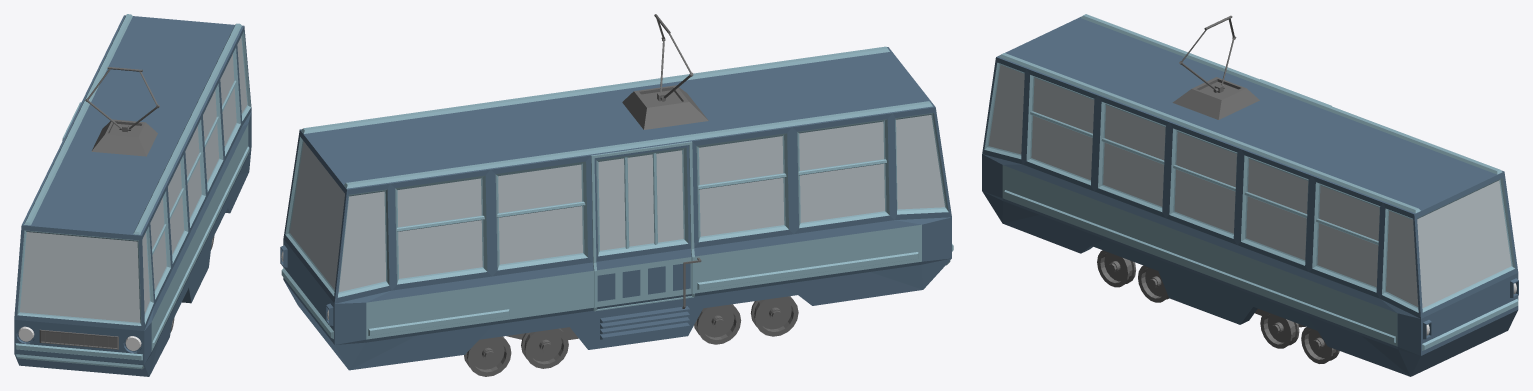
3 renders of one model, left to right at view 1: azimuth 30°, elevation 25°; view 2: azimuth 150°, elevation 25°; view 3: azimuth 270°, elevation 25°, orthographic. The views are drawn at different scales.
Visible parts, largest first — view 1: Cube.015; view 2: Cube.015; view 3: Cube.015.
Part boxes in pixels (x1,y1,x2,y2): Cube.015: [14, 14, 251, 376]; Cube.015: [280, 14, 953, 376]; Cube.015: [982, 14, 1518, 376].
Size of the model in its own units: 276 by 165 by 296.
